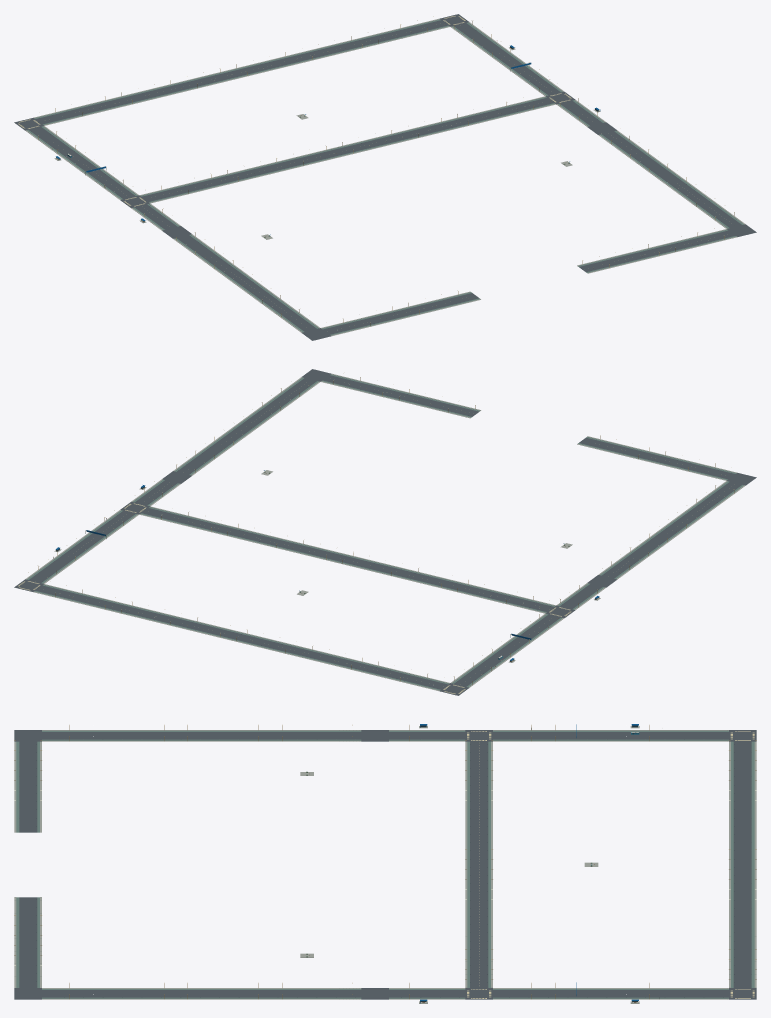
Rendered from cbd-streets.glb.
The picture shows the model from 3 angles, top to bottom: view 1: azimuth 30°, elevation 25°; view 2: azimuth 150°, elevation 25°; view 3: azimuth 270°, elevation 25°; orthographic projection. The views are drawn at different scales.
Visible parts, largest first — view 1: GC-CBD-STREET-001; view 2: GC-CBD-STREET-001; view 3: GC-CBD-STREET-001.
Part boxes in pixels (box(x1,y1,x2,y2)): GC-CBD-STREET-001: box(14, 14, 756, 340); GC-CBD-STREET-001: box(14, 369, 756, 695); GC-CBD-STREET-001: box(14, 724, 756, 1003).
Bounding box in the file's own units: 948 × 8.73 × 1071.
